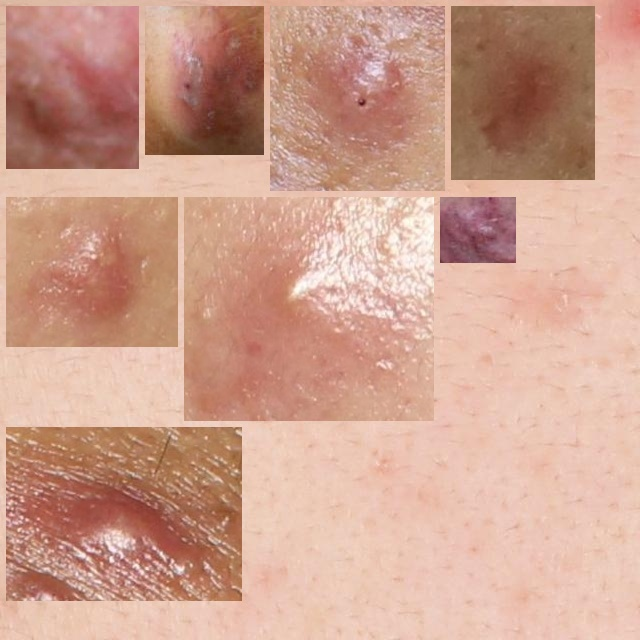nodule: (192, 205, 426, 413), (14, 435, 234, 593), (278, 14, 437, 183), (14, 205, 170, 339), (459, 14, 587, 172), (14, 14, 131, 161), (153, 14, 256, 147), (448, 205, 508, 255)
